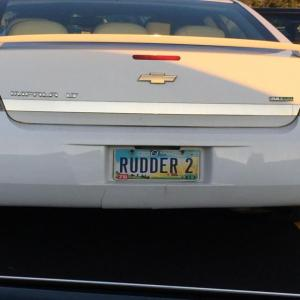Plate: (113, 149, 200, 181)
